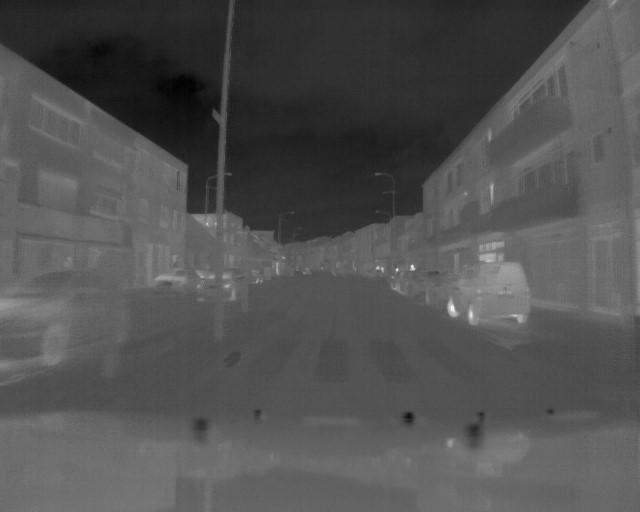car: (448, 261, 533, 328), (422, 269, 477, 314), (198, 266, 252, 305)
